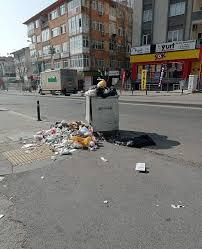Container: (88, 95, 120, 131)
Garbage: (38, 120, 104, 158), (55, 128, 100, 150), (108, 133, 159, 146), (92, 74, 118, 96), (138, 160, 152, 176)
